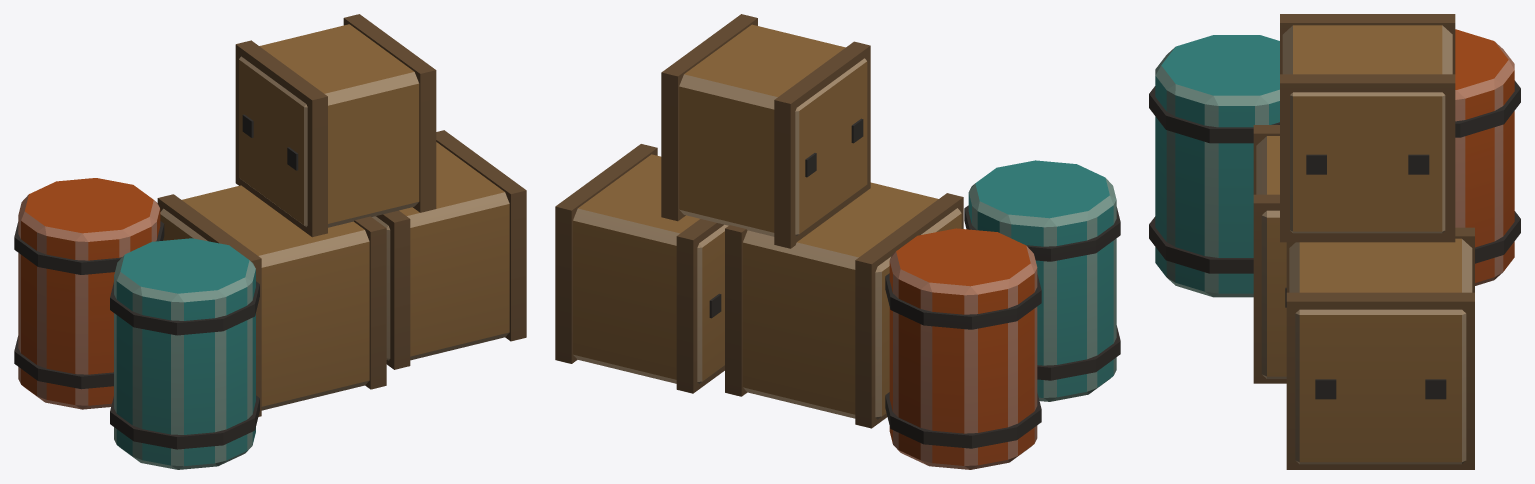
Rendered from e_crates.glb.
3 views of the same model, side by side, from view 1: azimuth 30°, elevation 25°; view 2: azimuth 150°, elevation 25°; view 3: azimuth 270°, elevation 25° (orthographic). The views are drawn at different scales.
Parts seen in each view (by area): view 1: e_crates; view 2: e_crates; view 3: e_crates.
Part boxes in pixels (x1,y1,x2,y2): e_crates: (14, 14, 526, 469); e_crates: (555, 14, 1120, 469); e_crates: (1149, 14, 1520, 469).
Bounding box in the file's own units: 2.23 × 1.41 × 1.42.
